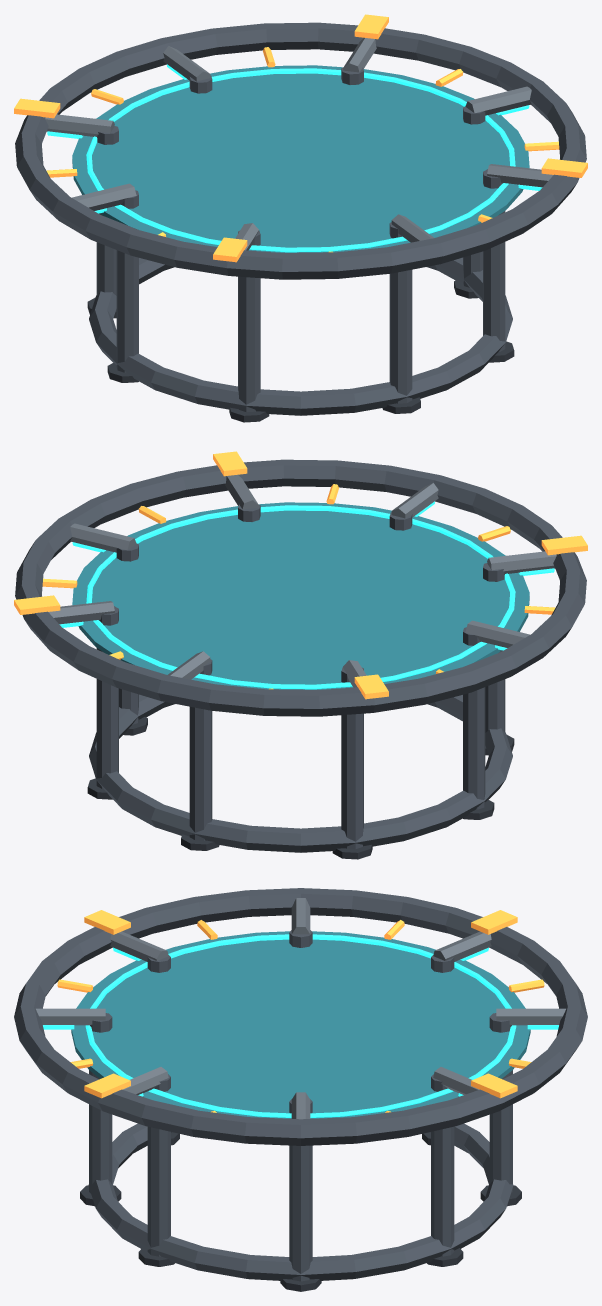
File: trampoline.glb
The picture shows the model from 3 angles, top to bottom: view 1: azimuth 30°, elevation 25°; view 2: azimuth 150°, elevation 25°; view 3: azimuth 270°, elevation 25°; orthographic projection.
Visible parts, largest first — view 1: TrampolineMat, TrampolineFrame, TrampolineBaseRing, TrampolineMatRing, TrampolineLeg_07, TrampolineLeg_06, TrampolineLeg_05, TrampolineLeg_08, TrampolineLeg_04, TrampolineSupport_01, TrampolineSupport_04, TrampolineSupport_08 (+9 smaller); view 2: TrampolineMat, TrampolineFrame, TrampolineBaseRing, TrampolineMatRing, TrampolineLeg_03, TrampolineLeg_04, TrampolineLeg_05, TrampolineLeg_02, TrampolineLeg_06, TrampolineSupport_01, TrampolineSupport_06, TrampolineSupport_02 (+9 smaller); view 3: TrampolineMat, TrampolineFrame, TrampolineBaseRing, TrampolineMatRing, TrampolineLeg_01, TrampolineLeg_02, TrampolineLeg_08, TrampolineLeg_03, TrampolineLeg_07, TrampolineSupport_03, TrampolineSupport_07, TrampolineSupport_04 (+8 smaller).
Part boxes in pixels (box(x1,y1,x2,y2)): TrampolineMat: box(72, 65, 529, 252); TrampolineFrame: box(15, 22, 586, 279); TrampolineBaseRing: box(89, 257, 512, 415); TrampolineMatRing: box(86, 68, 515, 252); TrampolineLeg_07: box(389, 222, 412, 403); TrampolineLeg_06: box(238, 230, 260, 412); TrampolineLeg_05: box(116, 190, 138, 372); TrampolineLeg_08: box(483, 169, 505, 351); TrampolineLeg_04: box(96, 126, 118, 295); TrampolineSupport_01: box(465, 86, 531, 115); TrampolineSupport_04: box(45, 114, 114, 136); TrampolineSupport_08: box(487, 164, 553, 187); TrampolineMat: box(72, 502, 529, 689); TrampolineFrame: box(15, 459, 586, 716); TrampolineBaseRing: box(89, 694, 512, 852); TrampolineMatRing: box(86, 505, 515, 689); TrampolineLeg_03: box(189, 659, 212, 840); TrampolineLeg_04: box(341, 667, 363, 849); TrampolineLeg_05: box(463, 627, 485, 809); TrampolineLeg_02: box(96, 606, 118, 788); TrampolineLeg_06: box(483, 563, 505, 732); TrampolineSupport_01: box(70, 523, 136, 552); TrampolineSupport_06: box(487, 551, 556, 573); TrampolineSupport_02: box(48, 601, 114, 624); TrampolineMat: box(71, 931, 530, 1118); TrampolineFrame: box(14, 888, 587, 1145); TrampolineBaseRing: box(88, 1123, 513, 1280); TrampolineMatRing: box(85, 934, 516, 1117); TrampolineLeg_01: box(289, 1099, 312, 1281); TrampolineLeg_02: box(431, 1074, 454, 1256); TrampolineLeg_08: box(147, 1074, 170, 1256); TrampolineLeg_03: box(489, 1013, 512, 1193); TrampolineLeg_07: box(89, 1013, 112, 1193); TrampolineSupport_03: box(496, 1008, 565, 1025); TrampolineSupport_07: box(36, 1008, 105, 1025); TrampolineSupport_04: box(433, 931, 491, 961).
Bounding box in the file's own units: 2.35 × 0.89 × 2.35.
